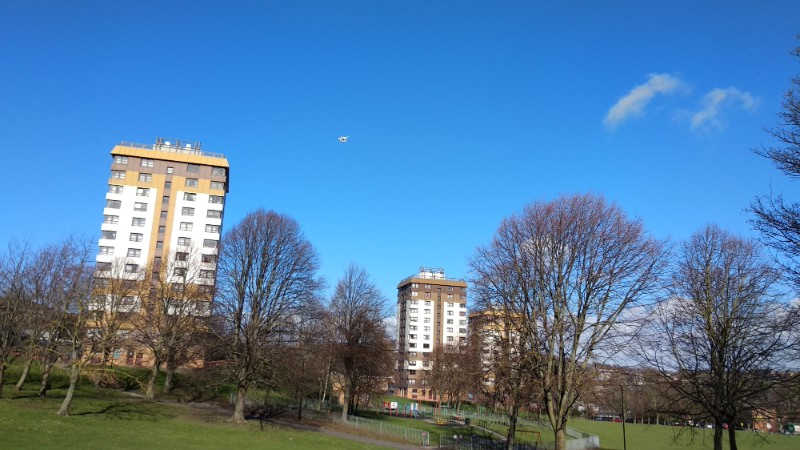drone: (338, 135, 350, 143)
